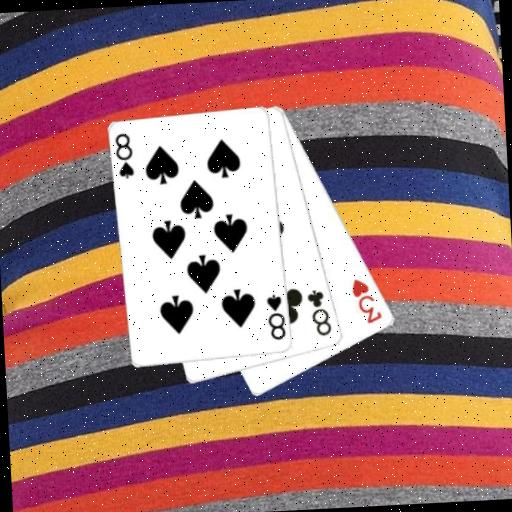3H: (348, 275, 384, 327)
8C: (304, 287, 334, 339)
8S: (112, 130, 137, 181), (264, 291, 288, 343)
